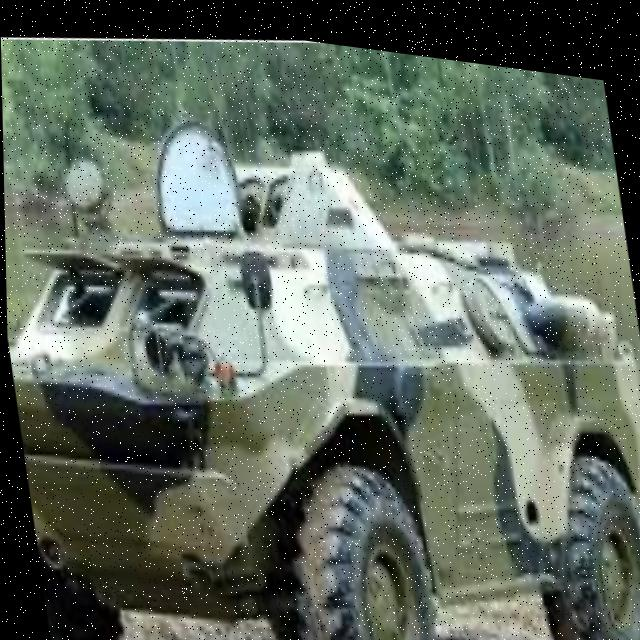MIL_APC: (1, 83, 640, 640)
